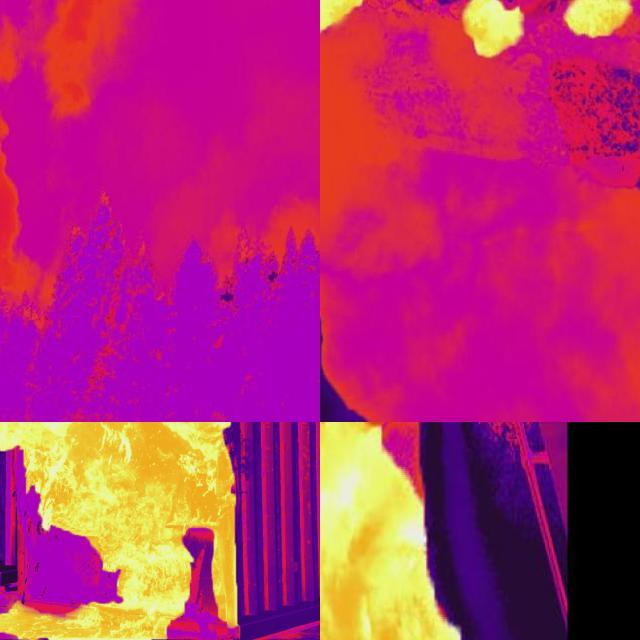fire: (1, 421, 251, 640), (321, 421, 463, 640), (457, 1, 535, 63), (562, 1, 638, 50), (321, 1, 371, 48)
